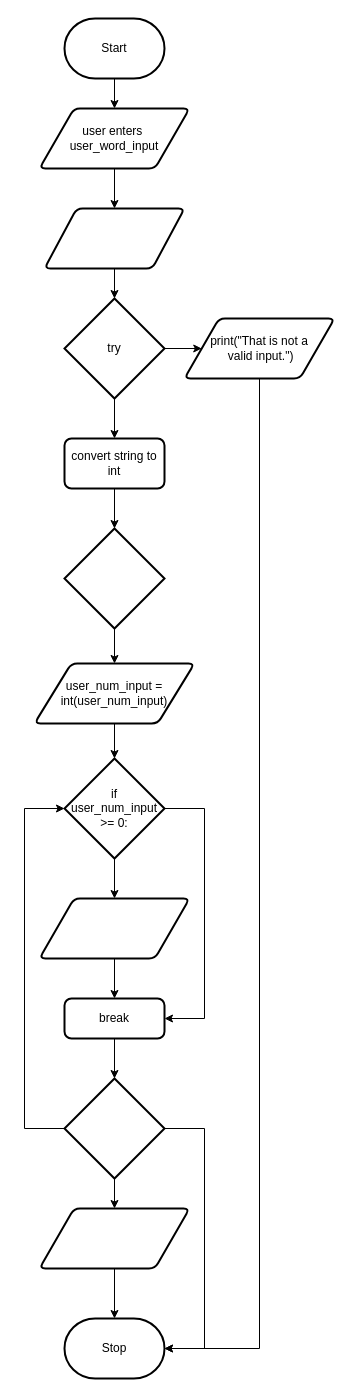
Image size: 353x1396. Some labels were removed from this diagram. The shapes that lost their labels are listed below. From the top down, each one's centre as x and y in pixels, then its label:
[114,238]: user enters user_num_input
[114,578]: while True:
[114,928]: print( user_word_input * user_num_input)
[114,1128]: elif user_num_input <= 0:
[114,1238]: print( "That is not a proper number.")
